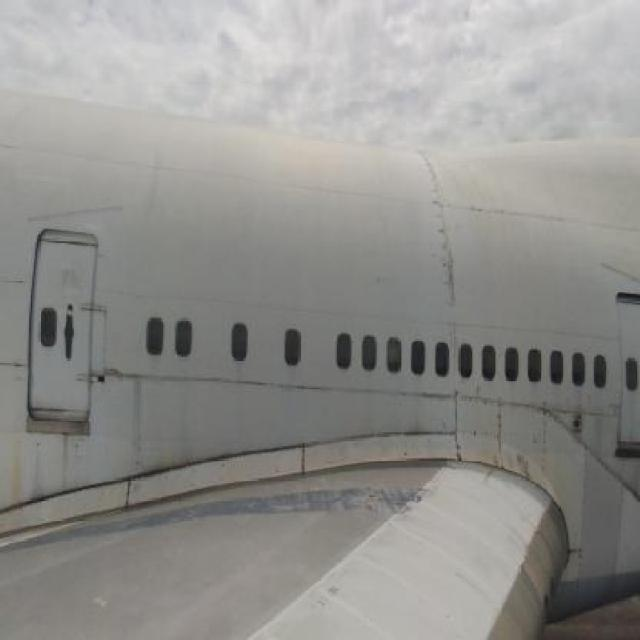Missing-Rivet: (439, 385, 563, 433)
Rust: (11, 385, 29, 520)
Scartch: (418, 159, 467, 352), (472, 438, 552, 484), (121, 360, 150, 482)
